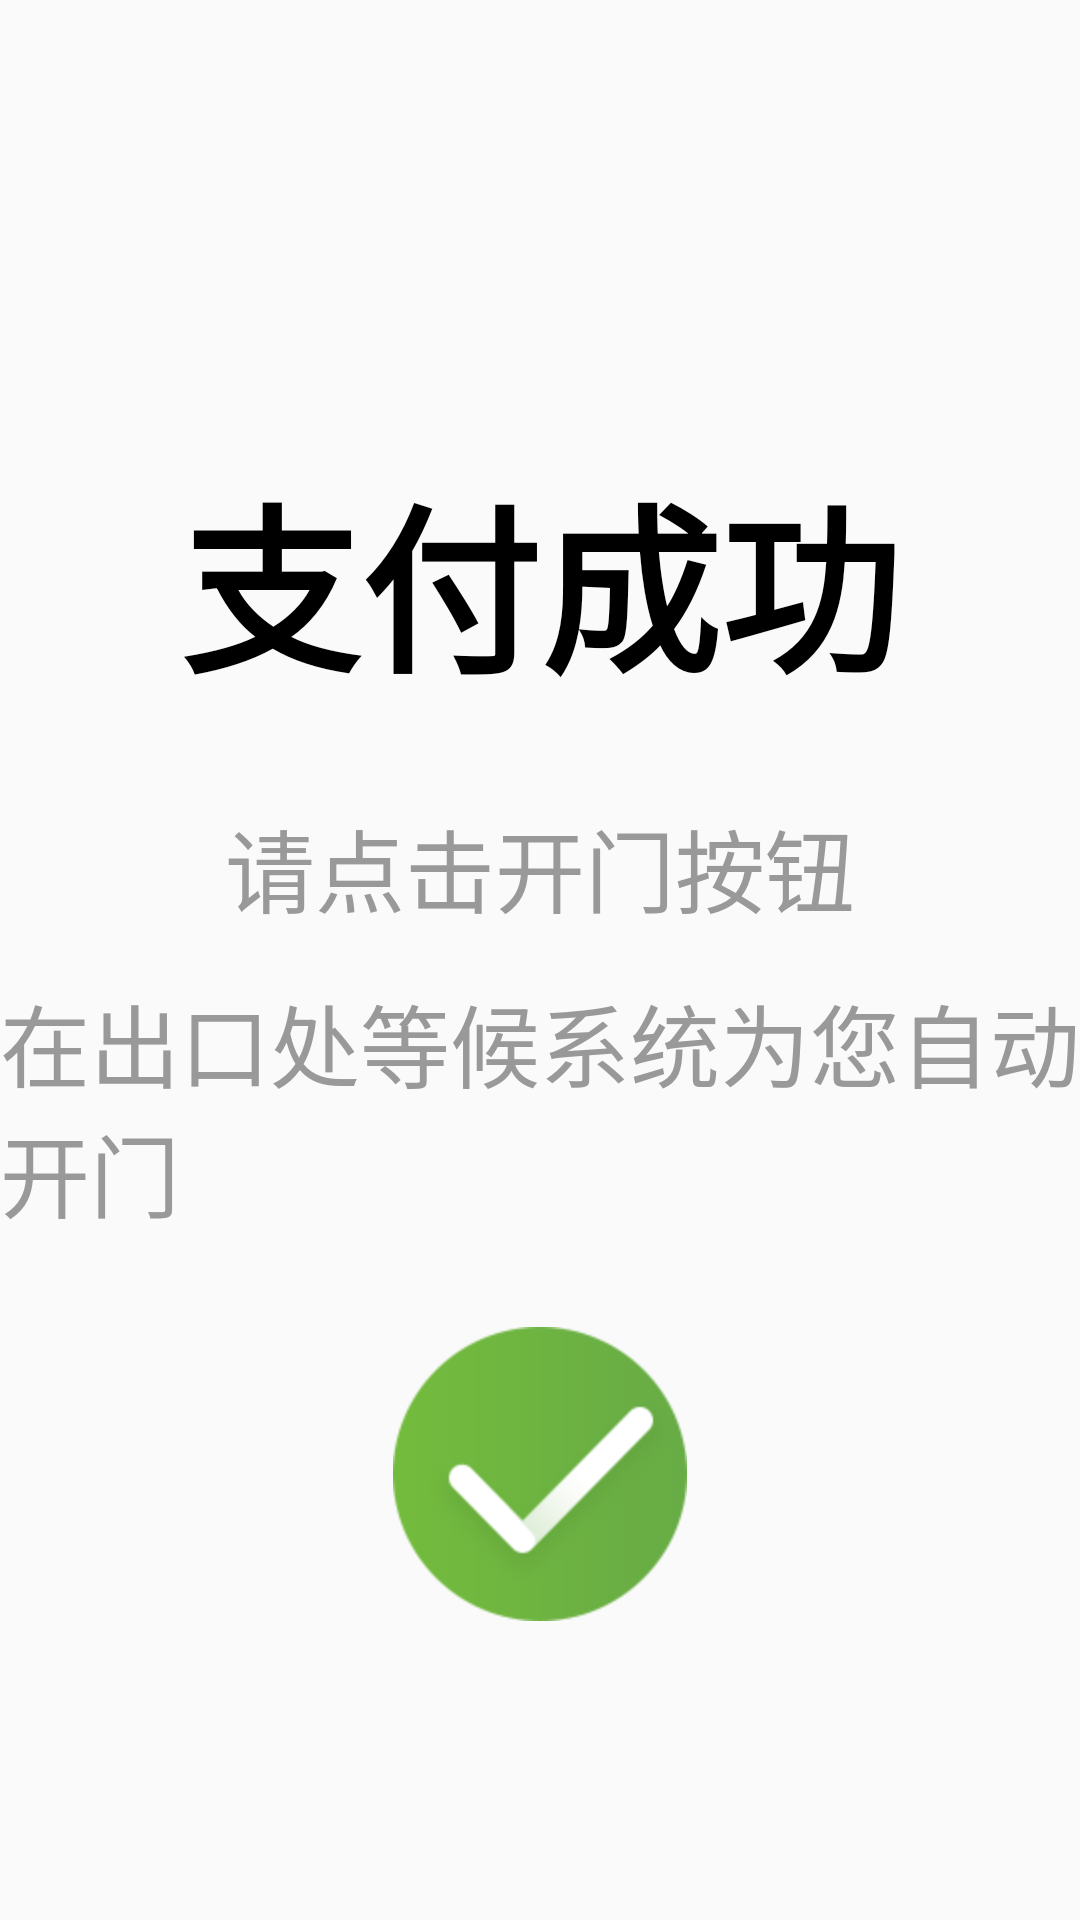

Locate icon controls on the screen. Image size 1080w x 1920h, boxes as rect(x1, y1, x2, y2).
pay sucessed: rect(393, 1327, 687, 1621)
